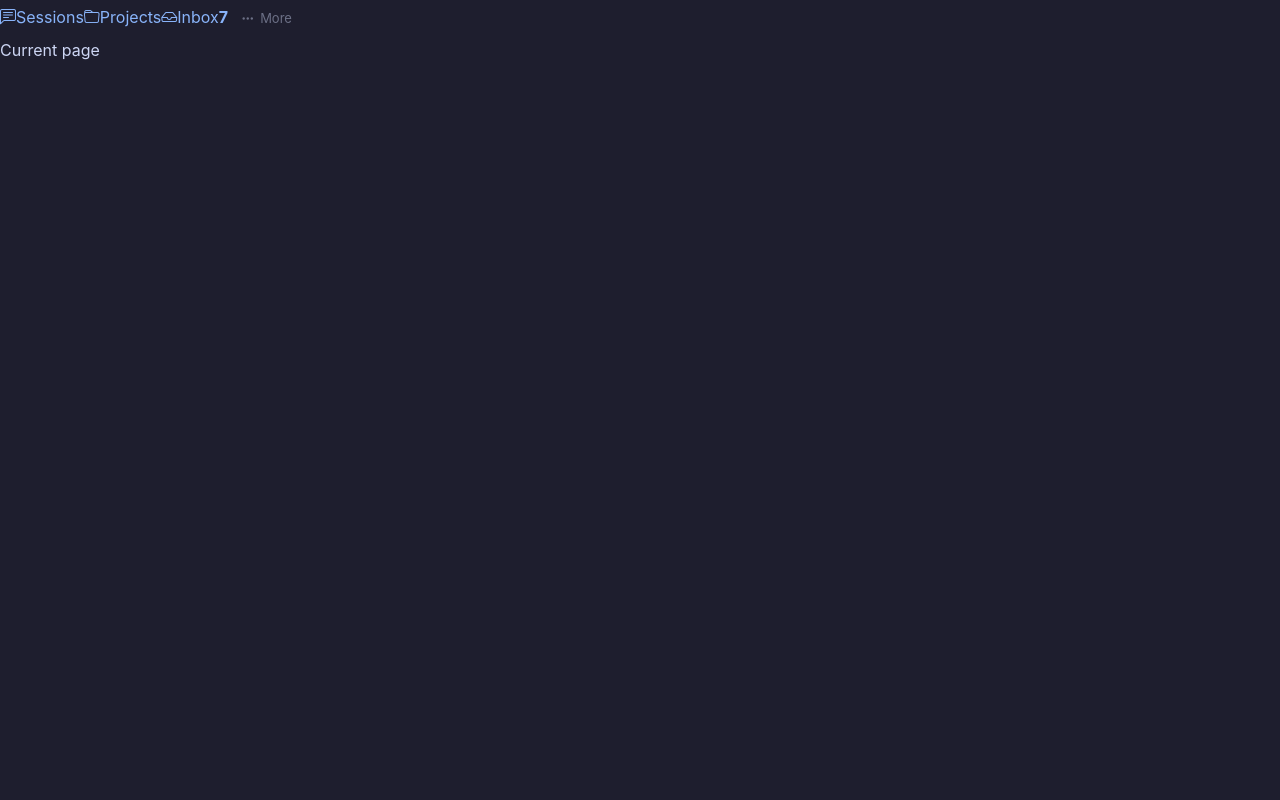
phone navigation › shows 0 unread sessions on Home in More destinations
Click the button "More" at (266, 19), box [228, 0, 305, 38]
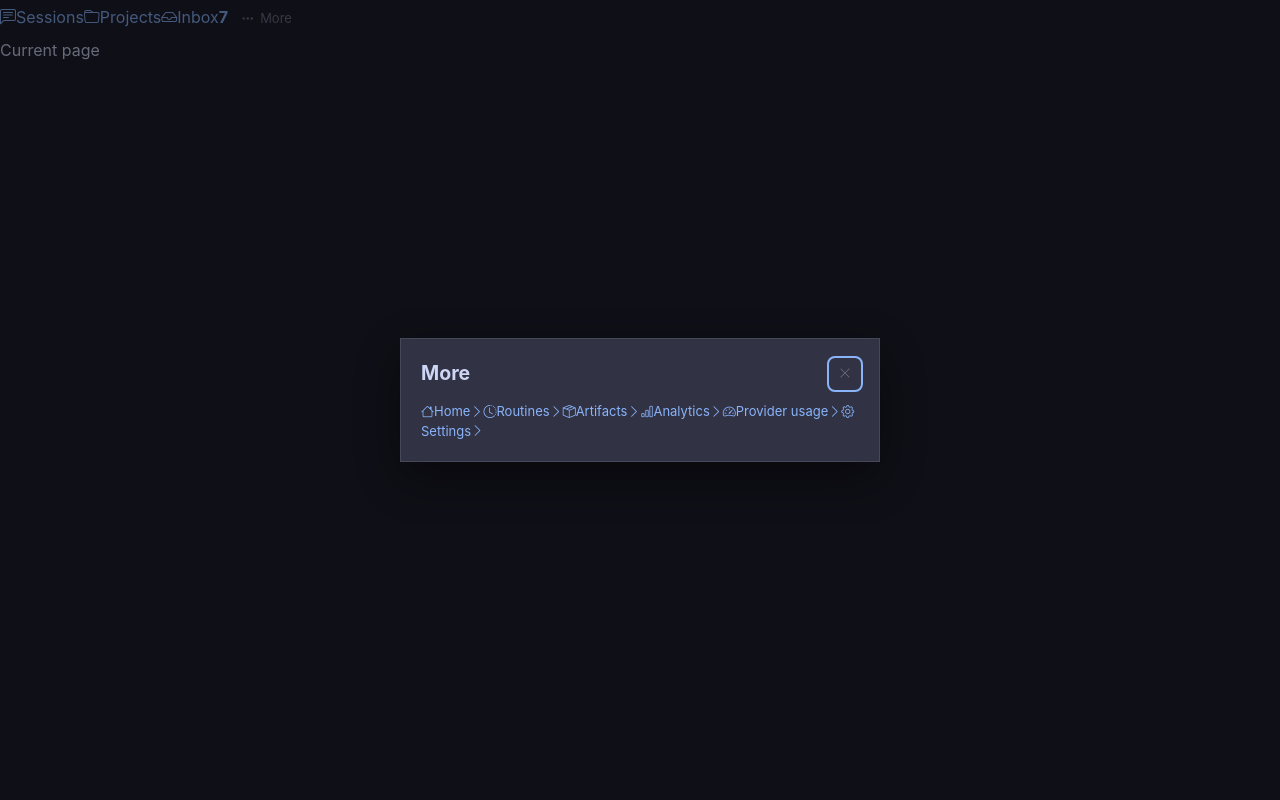
Expected: the link with aria-label "Inbox, 7 unread messages" shows "7", [161, 7, 228, 27]
Now the link "Home" is shown, box [421, 403, 483, 419]
